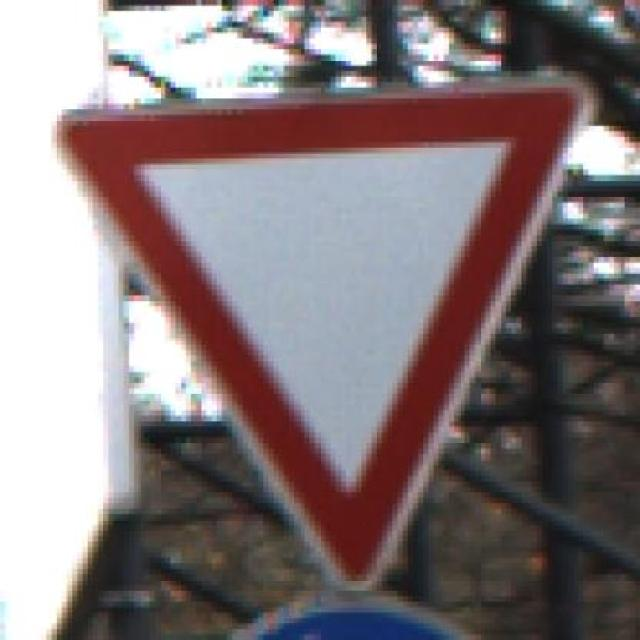Give Way: (26, 49, 603, 608)
